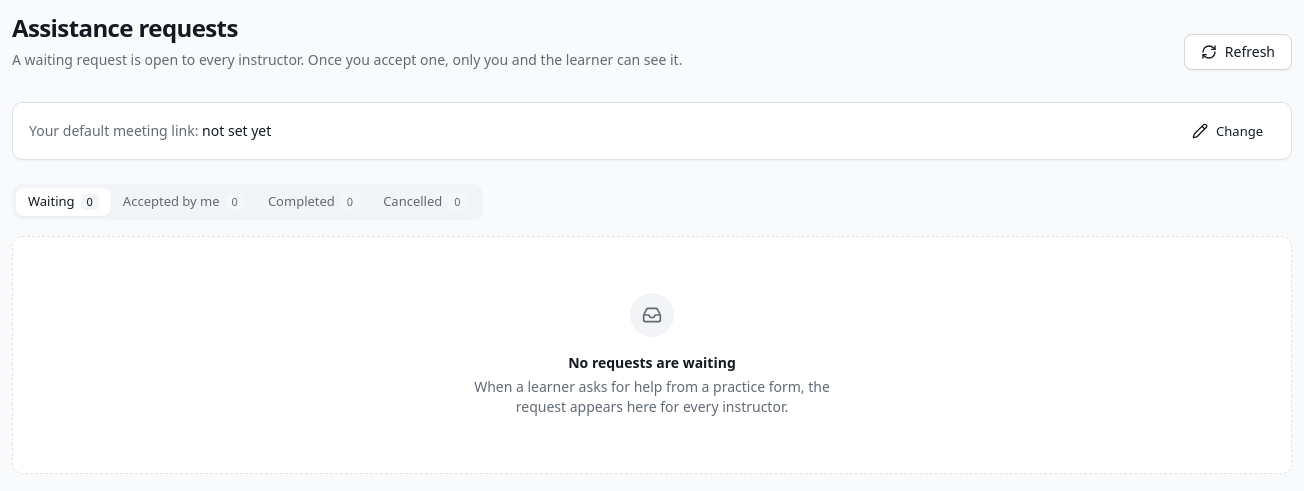
Test: RequestQueue › reloads the queue on Refresh
The image size is (1304, 491).
Expected: the text "No requests are waiting" is shown, [568,353,736,373]
What coordinates should you click on to do the following:
click the button "Refresh"
I would click on:
 (1238, 52)
Its box is [1184,34,1292,70].
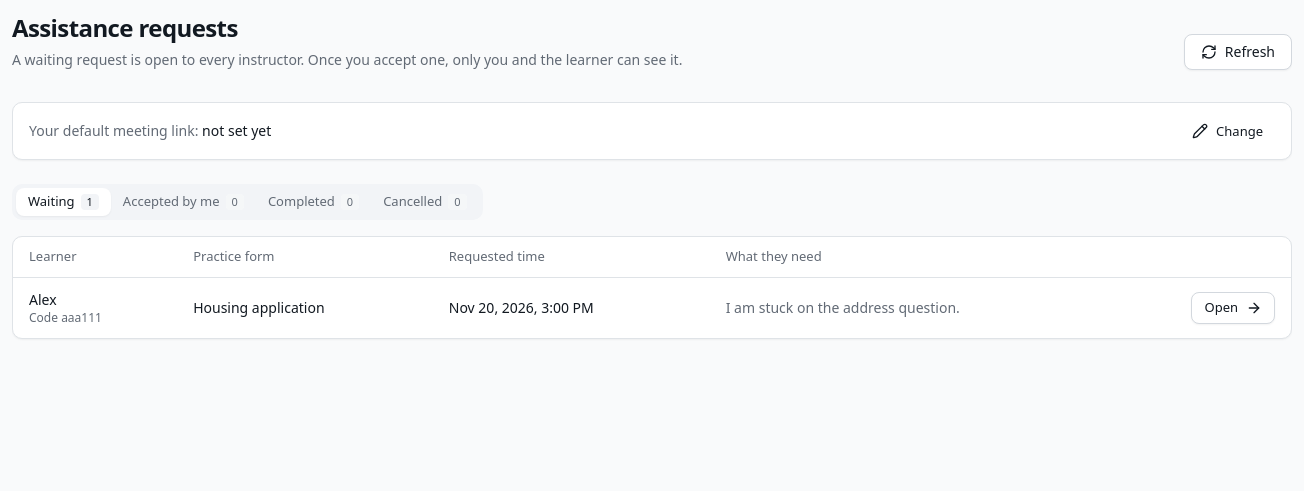
Expected: the text "Housing application" is shown, [177,277,433,338]
